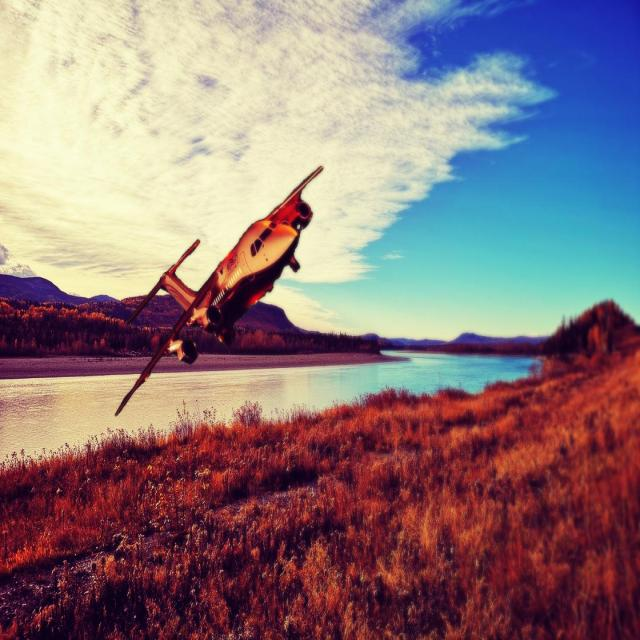airplane: (114, 164, 324, 416)
